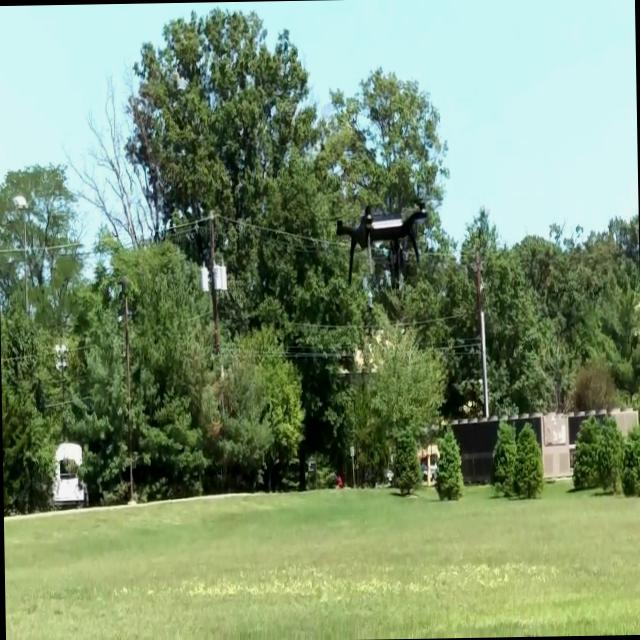drone: (334, 196, 434, 286)
